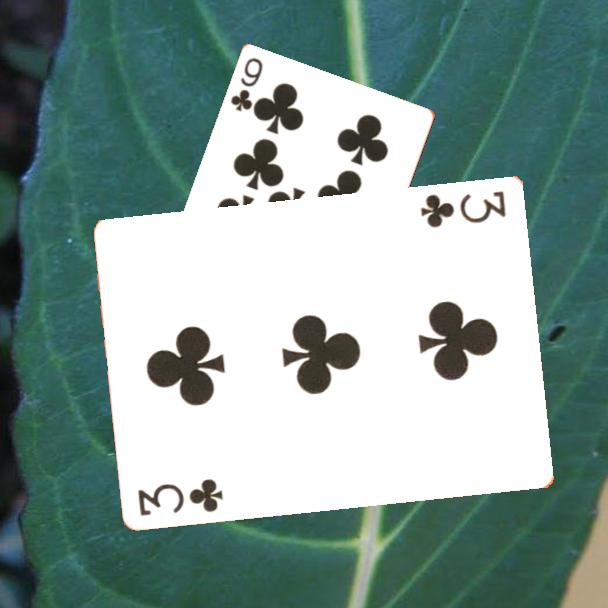c03: (417, 187, 509, 230), (135, 475, 226, 518)
c09: (227, 54, 266, 115)
